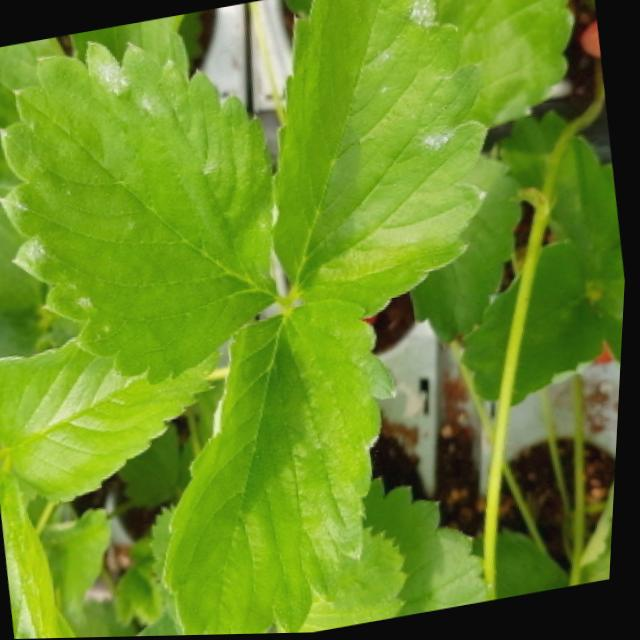Powdery Mildew Leaf: (0, 38, 283, 387), (166, 295, 403, 636), (269, 0, 490, 320), (1, 473, 84, 639)
